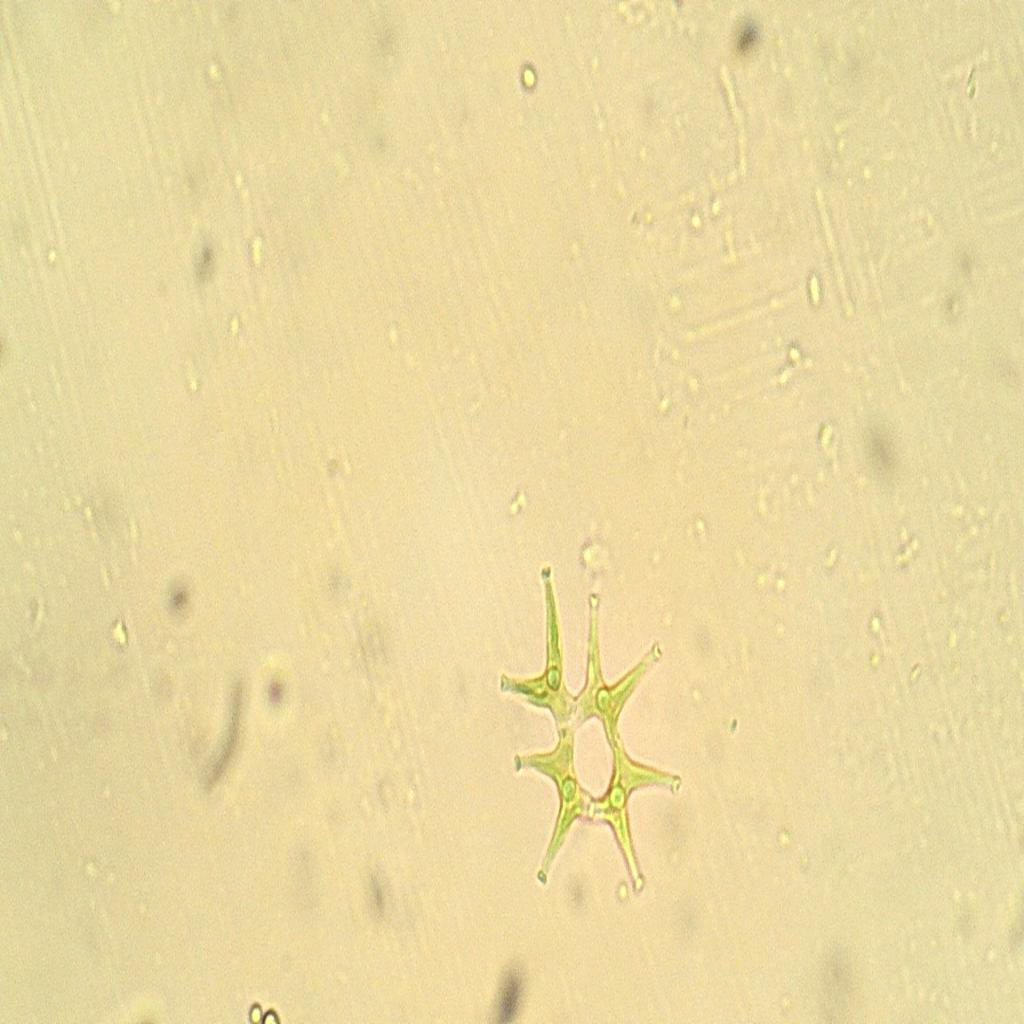Pediastrum_CT: (488, 536, 689, 929)
